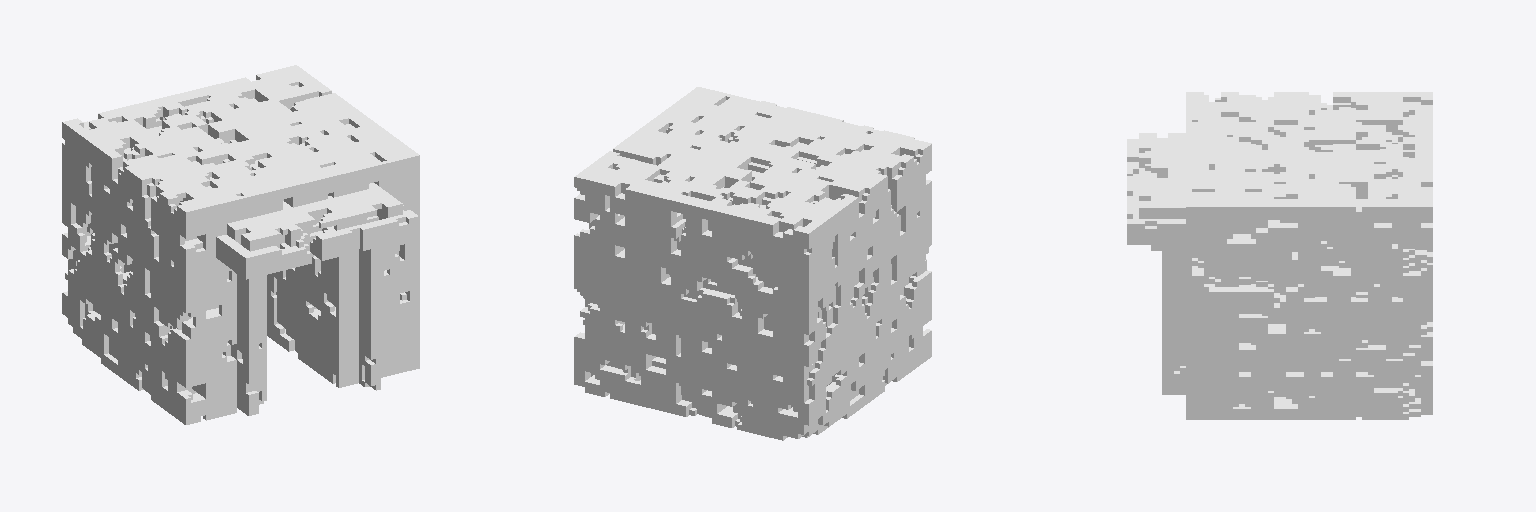
Rendered from Masoleum1-2-Masoleum1_2.obj.
The picture shows the model from 3 angles: view 1: azimuth 30°, elevation 25°; view 2: azimuth 150°, elevation 25°; view 3: azimuth 270°, elevation 25°; orthographic projection.
Parts seen in each view (by area): view 1: Masoleum1_2; view 2: Masoleum1_2; view 3: Masoleum1_2.
Part boxes in pixels (bbox=[...]): Masoleum1_2: bbox=[62, 65, 419, 424]; Masoleum1_2: bbox=[574, 87, 931, 440]; Masoleum1_2: bbox=[1127, 92, 1432, 419].
Size of the model in its own units: 9.2 by 8 by 10.4.